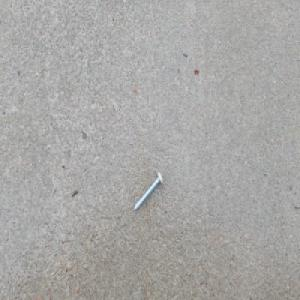Nail: (133, 169, 164, 212)
